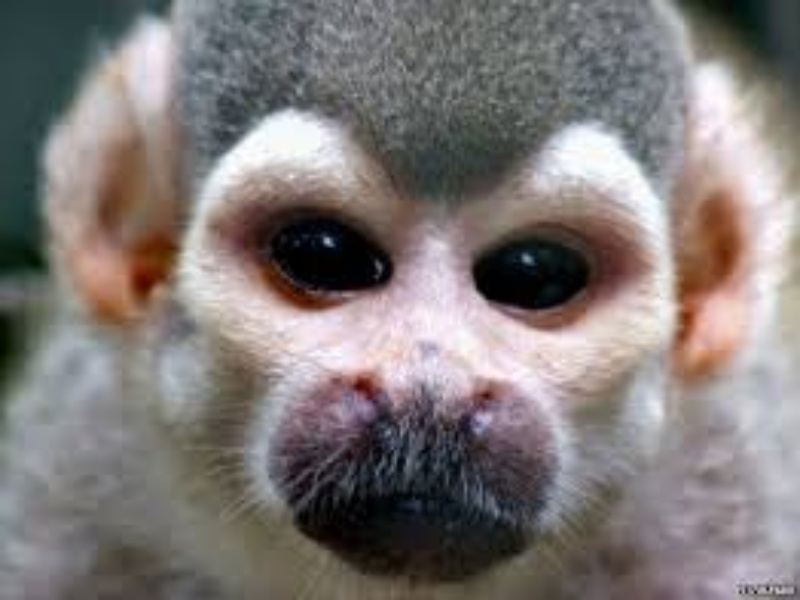monkey: (24, 6, 789, 592)
